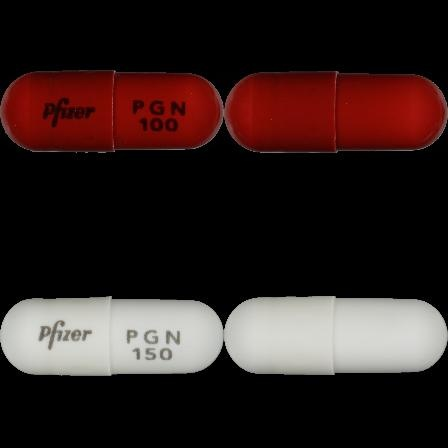43353-413: (0, 0, 224, 224)
